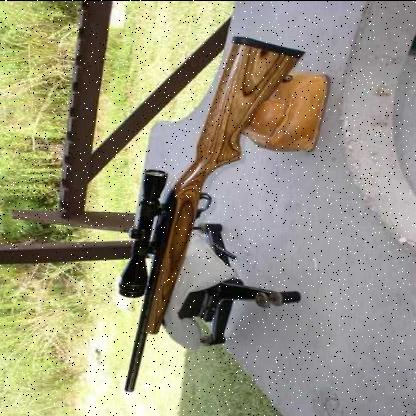rifle: (112, 21, 336, 395)
